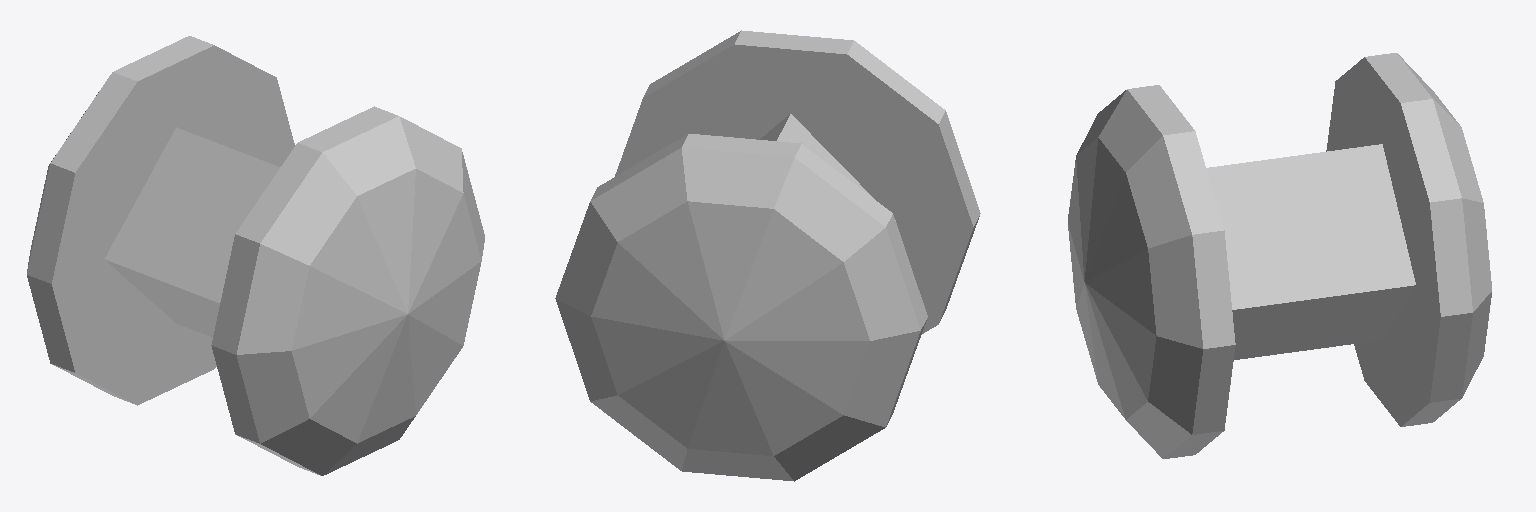
3 views of the same model, side by side, from view 1: azimuth 30°, elevation 25°; view 2: azimuth 150°, elevation 25°; view 3: azimuth 270°, elevation 25° (orthographic).
Parts seen in each view (by area): view 1: part5:wheel 2; view 2: part5:wheel 2; view 3: part5:wheel 2.
Part boxes in pixels (x1,y1,x2,y2): part5:wheel 2: (27,36,484,475); part5:wheel 2: (555,30,980,481); part5:wheel 2: (1068,53,1491,458).
Size of the model in its own units: 0.0593 by 0.0481 by 0.0571.